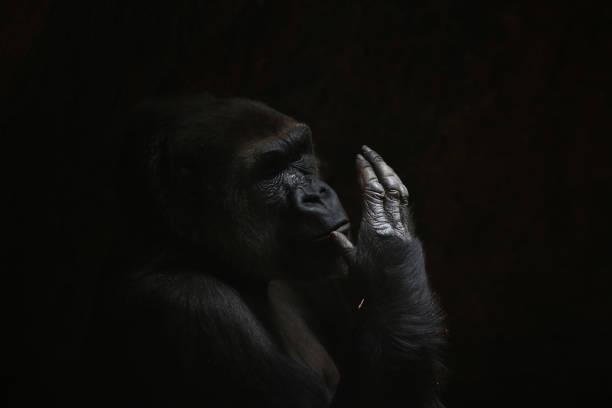gorille_Autres: (81, 80, 465, 408)
